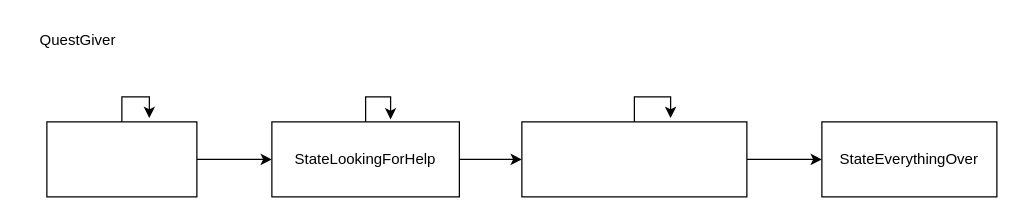
This 1019x219 diagram has some shape labels left out. Each missing label, with the box of its shape:
StateEnjoyingLife: (46, 121, 197, 197)
StateWaitingForHeroToWin: (521, 121, 747, 197)
